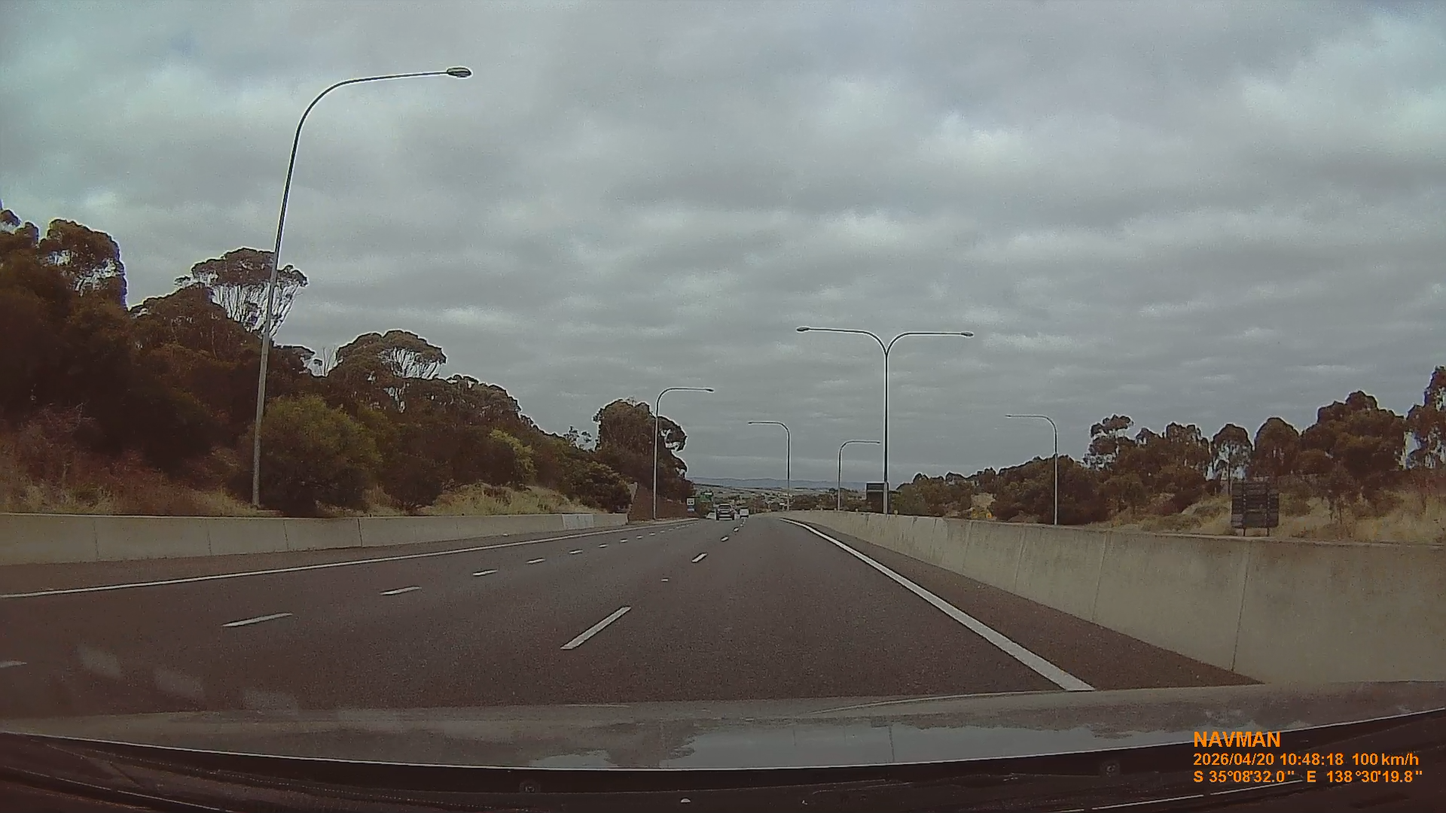road barriers: (808, 512, 1445, 685), (0, 512, 625, 566)
